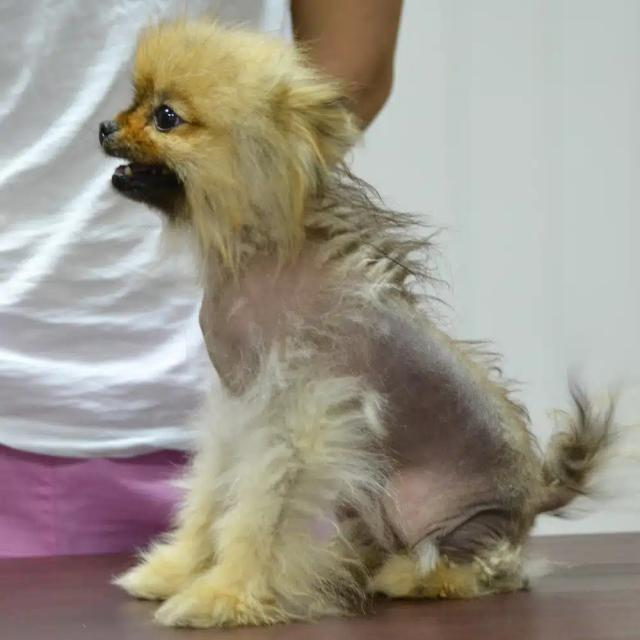cat-hairloss: (229, 270, 508, 534)
